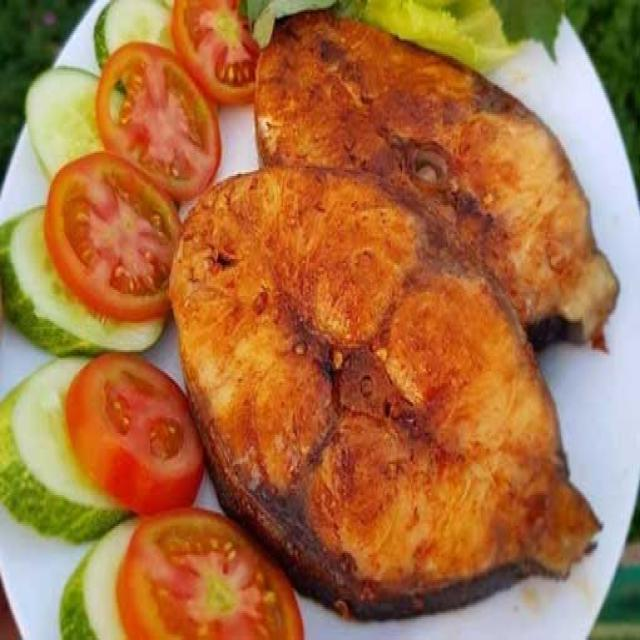ca chien: (170, 166, 599, 615), (259, 14, 615, 336)
ca chua: (44, 0, 258, 317), (64, 354, 302, 638)
dua leo: (0, 358, 125, 541), (6, 205, 159, 350), (59, 520, 134, 638), (25, 66, 101, 178), (100, 0, 170, 54)
